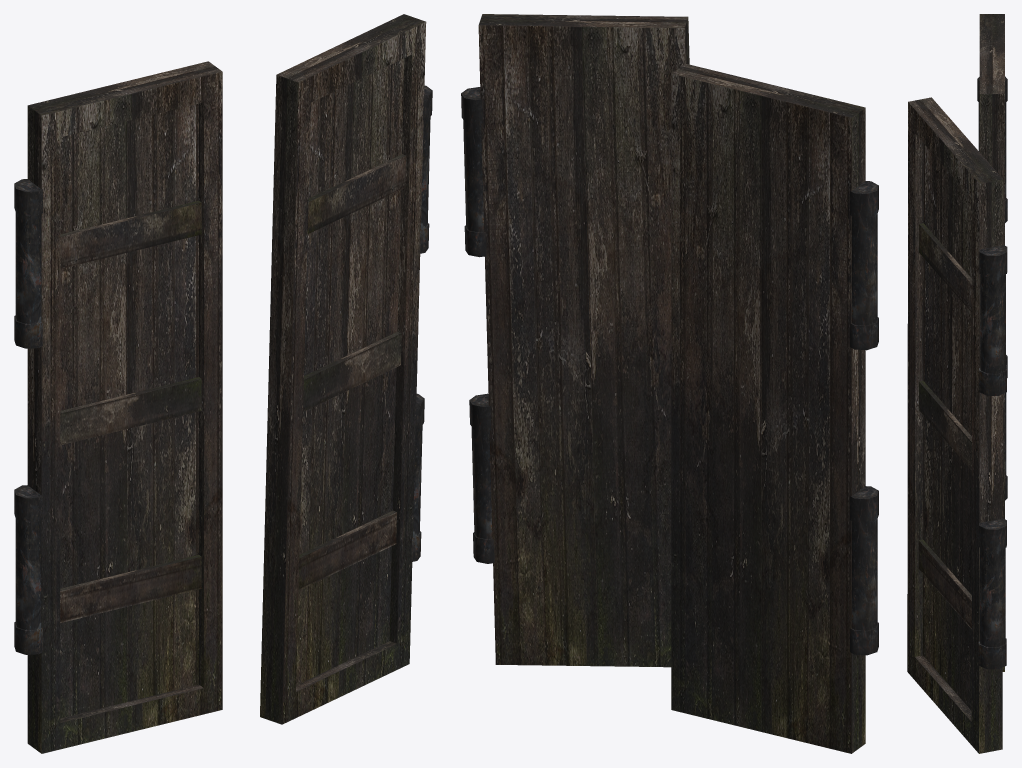
File: Window_Barriers_00.fbx
3 views of the same model, side by side, from view 1: azimuth 30°, elevation 25°; view 2: azimuth 150°, elevation 25°; view 3: azimuth 270°, elevation 25° (orthographic). The views are drawn at different scales.
Visible parts, largest first — view 1: Window_Barriers_00; view 2: Window_Barriers_00; view 3: Window_Barriers_00.
Boxes of the visible parts, box(x1,y1,x2,y2) form: Window_Barriers_00: box(14, 14, 432, 753); Window_Barriers_00: box(461, 14, 878, 753); Window_Barriers_00: box(907, 14, 1007, 753).
Bounding box in the file's own units: 91.6 × 137 × 21.2.
